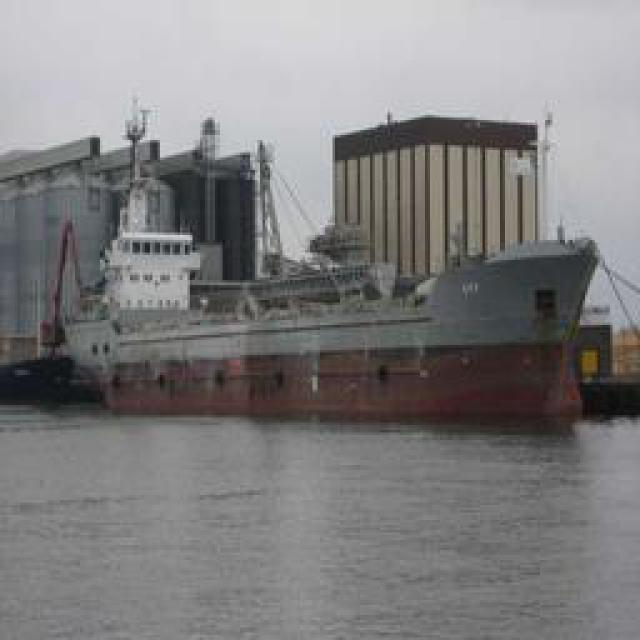Ship: (40, 184, 598, 419)
